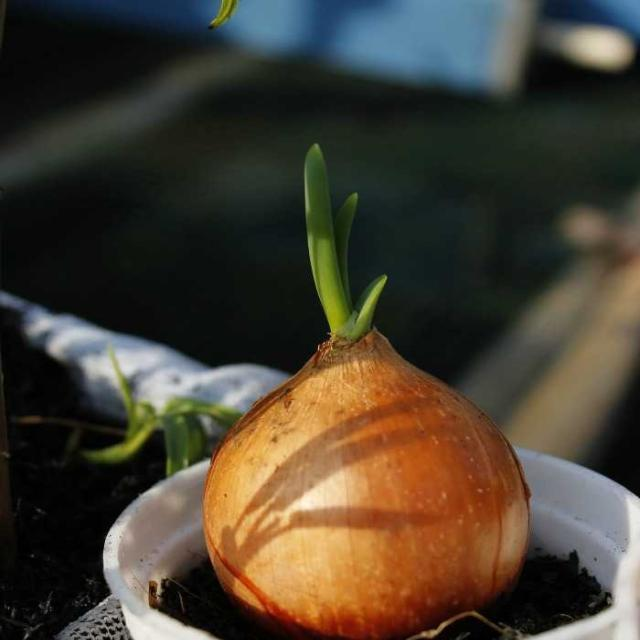onion: (198, 138, 536, 634)
